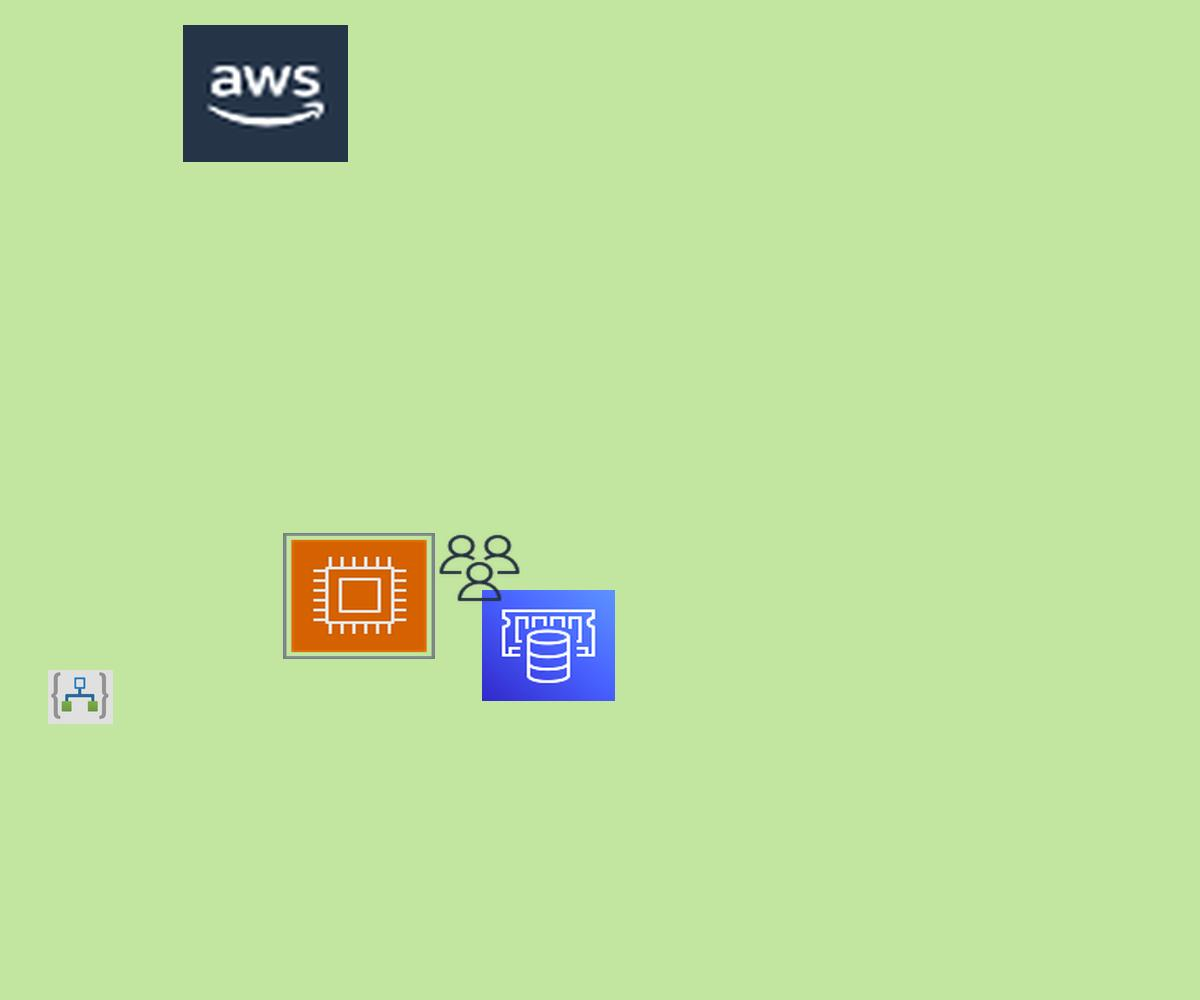AWS-Category_Compute: (283, 533, 435, 659)
AWS-Cloud-logo: (183, 25, 348, 162)
AWS-ElastiCache: (482, 590, 615, 701)
AWS-Res_Users: (436, 532, 523, 604)
Azure_integration-204-Logic-Apps: (48, 670, 113, 724)
